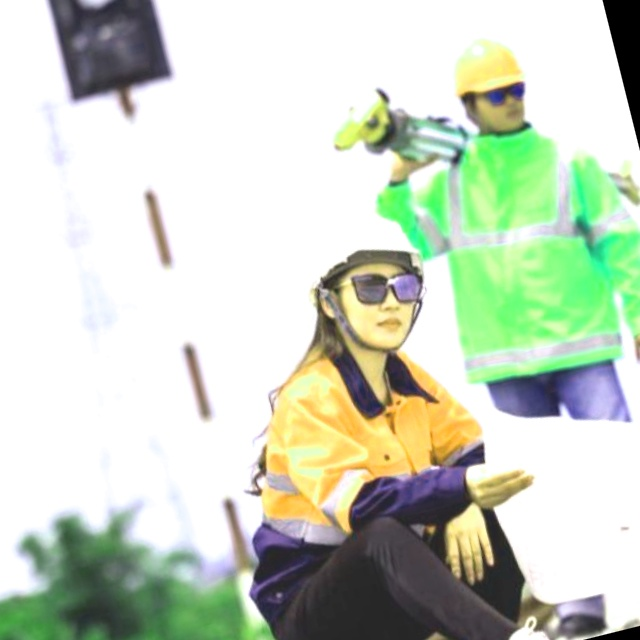Con_Casco: (298, 196, 445, 367), (439, 23, 548, 147)
Con_Chaleco: (418, 110, 640, 390)
